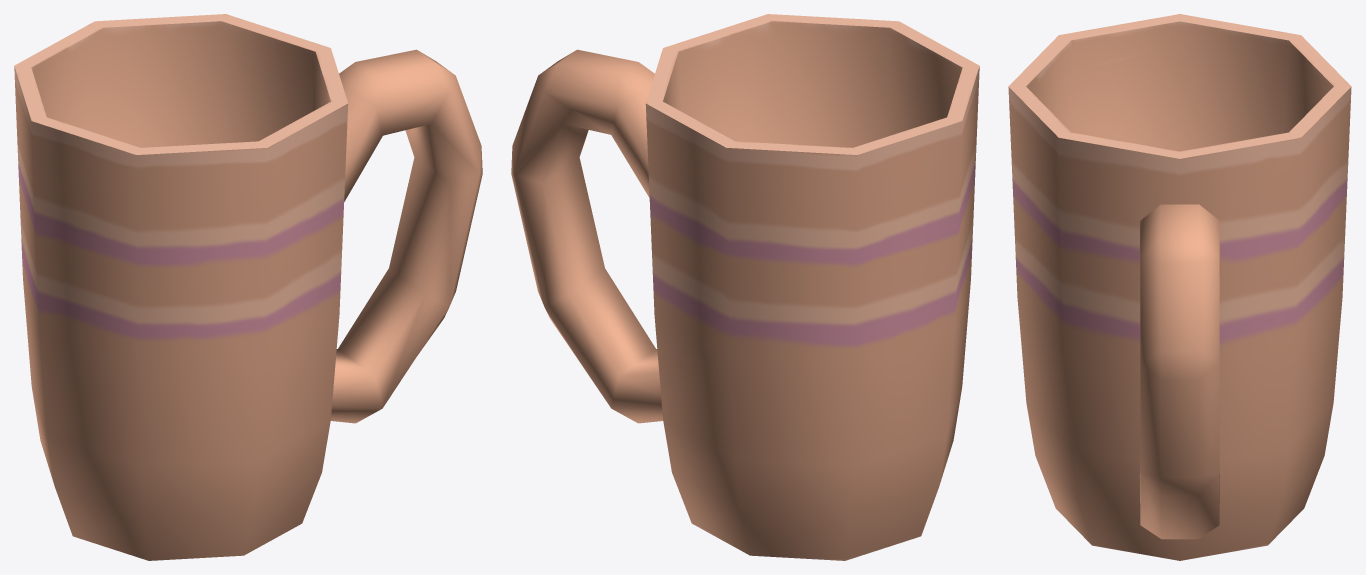
File: Mug.glb
3 renders of one model, left to right at view 1: azimuth 30°, elevation 25°; view 2: azimuth 150°, elevation 25°; view 3: azimuth 270°, elevation 25°, orthographic.
Visible parts, largest first — view 1: sercups_mug_Cylinder.114; view 2: sercups_mug_Cylinder.114; view 3: sercups_mug_Cylinder.114.
Part boxes in pixels (box(x1,y1,x2,y2)): sercups_mug_Cylinder.114: box(14, 14, 482, 560); sercups_mug_Cylinder.114: box(511, 14, 979, 560); sercups_mug_Cylinder.114: box(1008, 14, 1351, 560).
Bounding box in the file's own units: 2.95 × 2.74 × 2.
1 material, 1 textured.
